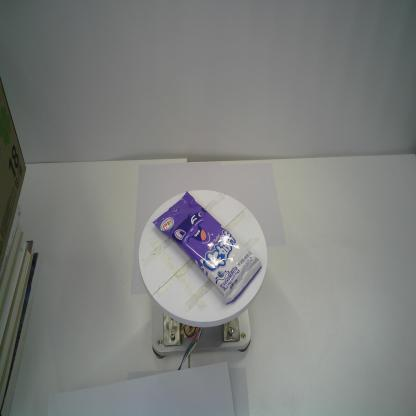Candy: (152, 191, 262, 304)
